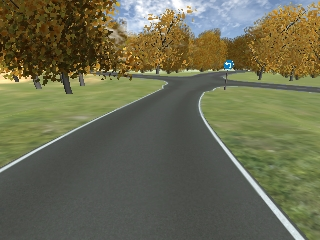left: (224, 60, 234, 71)
